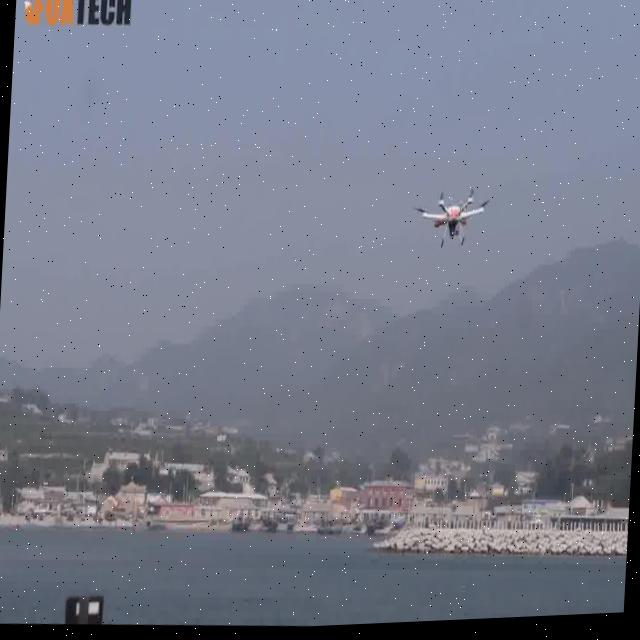drone: (412, 193, 494, 262)
